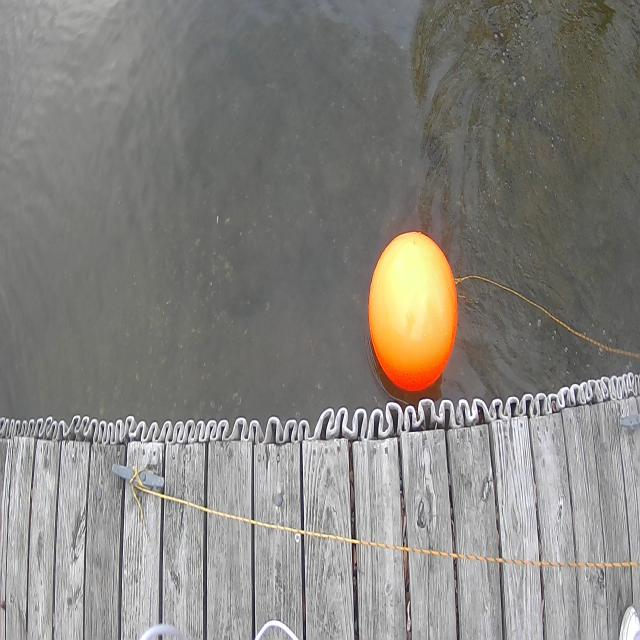Buoy: (361, 225, 463, 404)
